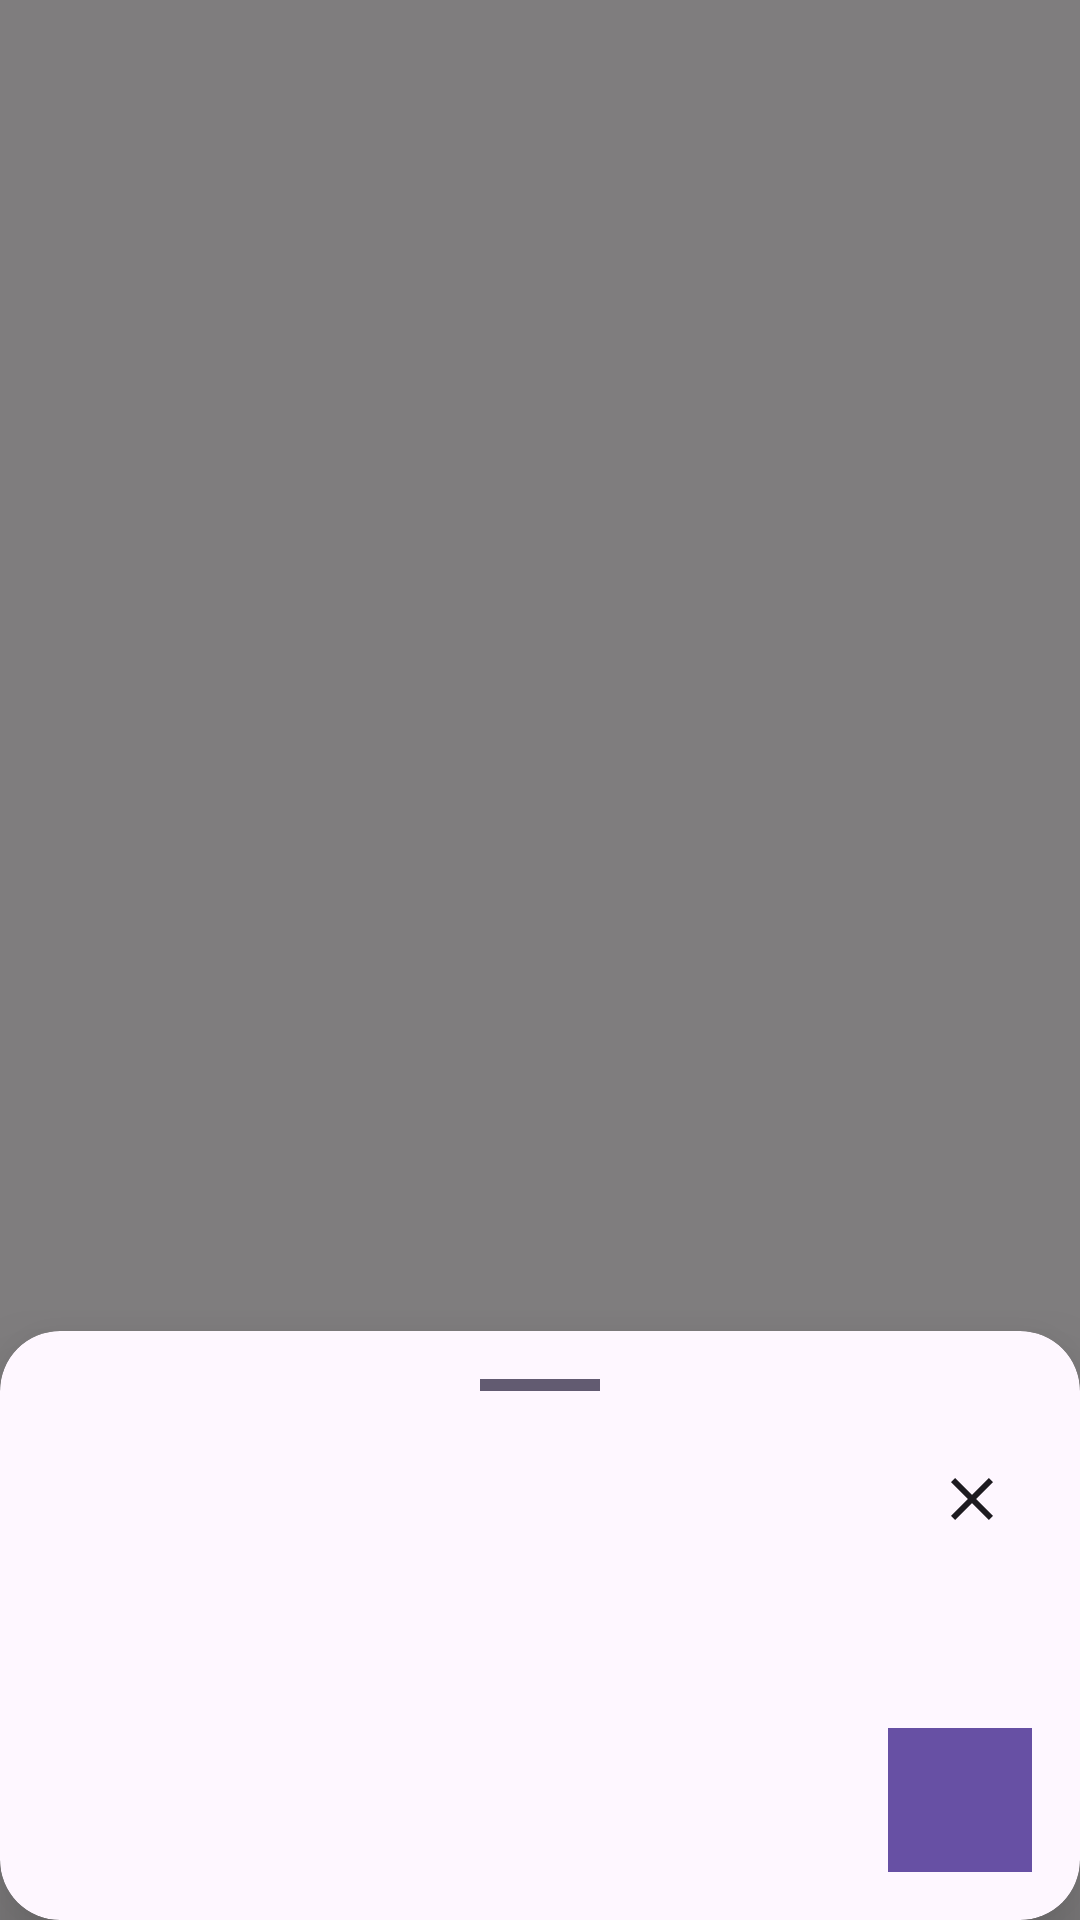

Where icons sit on this 1080 x 1920 app screen, as (x1, y1, x2, y2):
Close: (951, 1478, 993, 1520)
